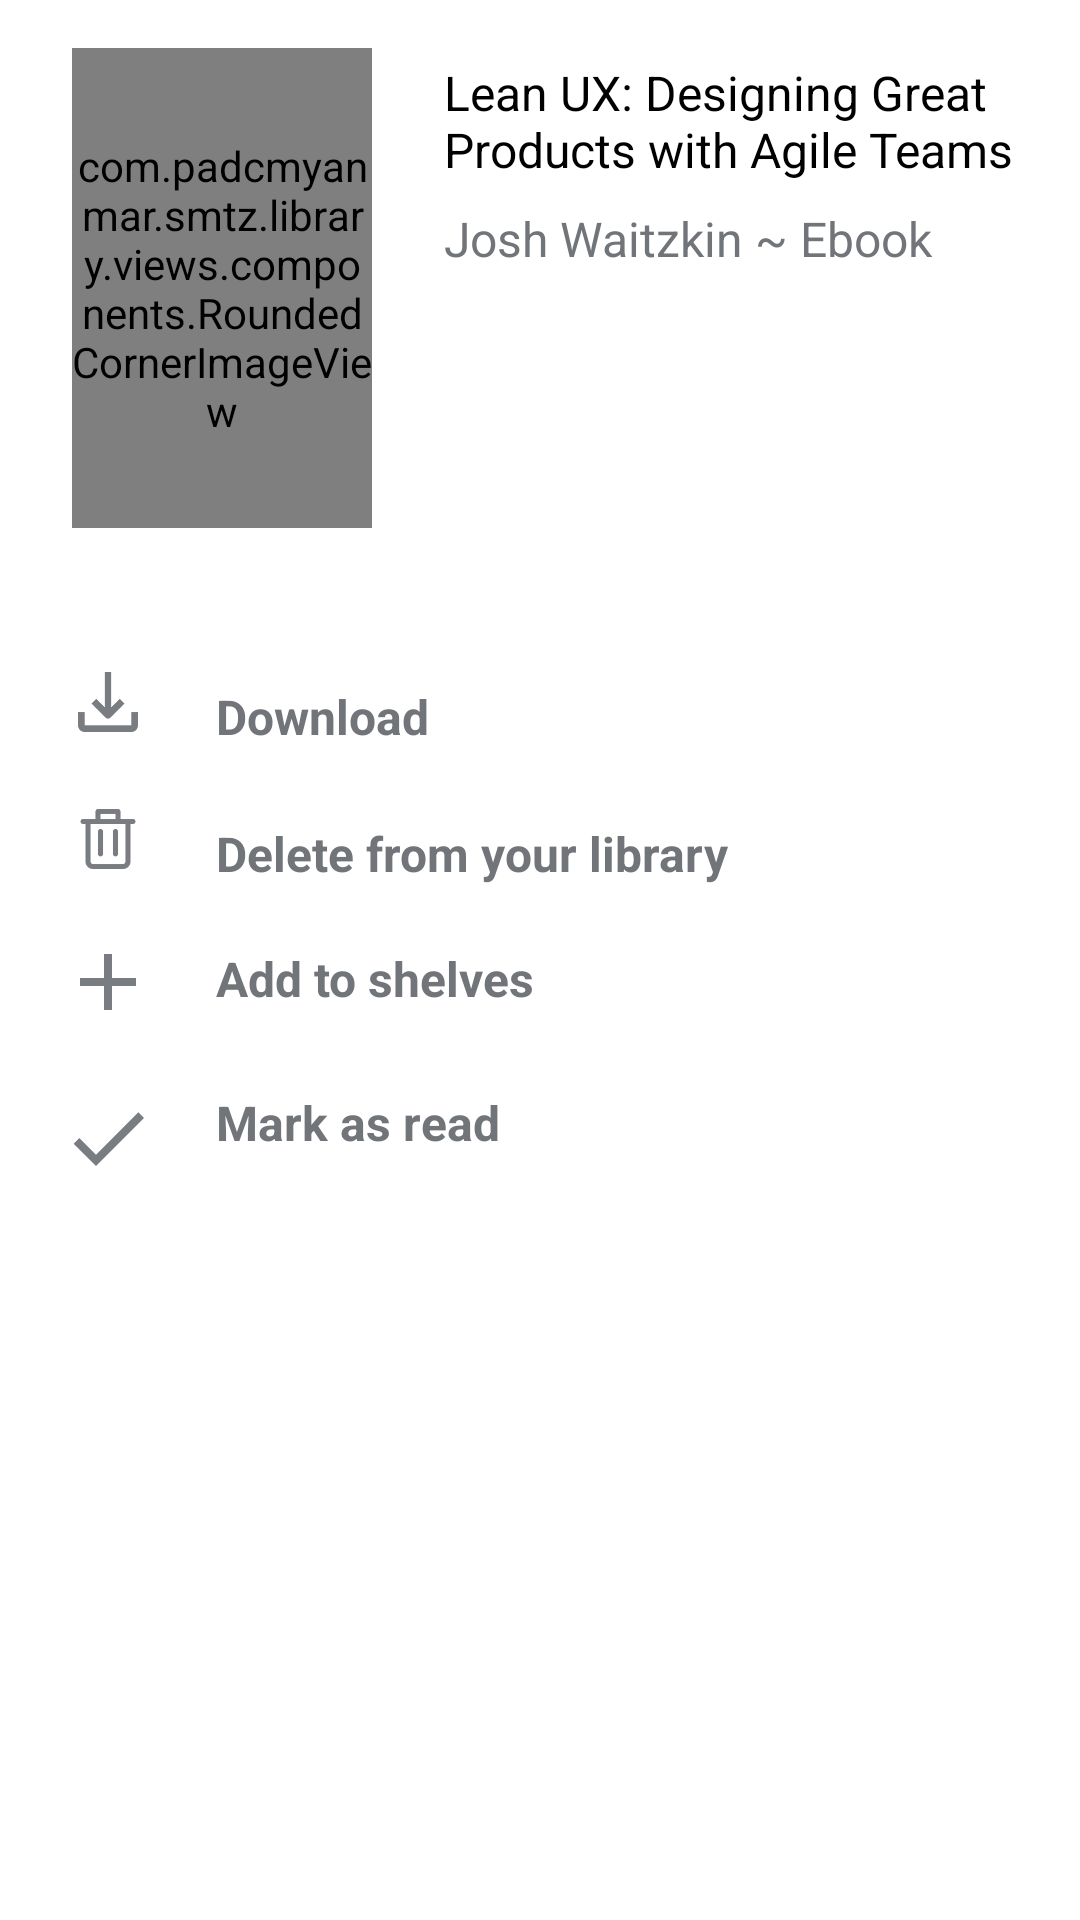

Named icons in this screenshot (1080*1920) and their centers, point (x, y):
add secondary: point (108, 982)
check secondary: point (109, 1139)
trash: point (108, 839)
